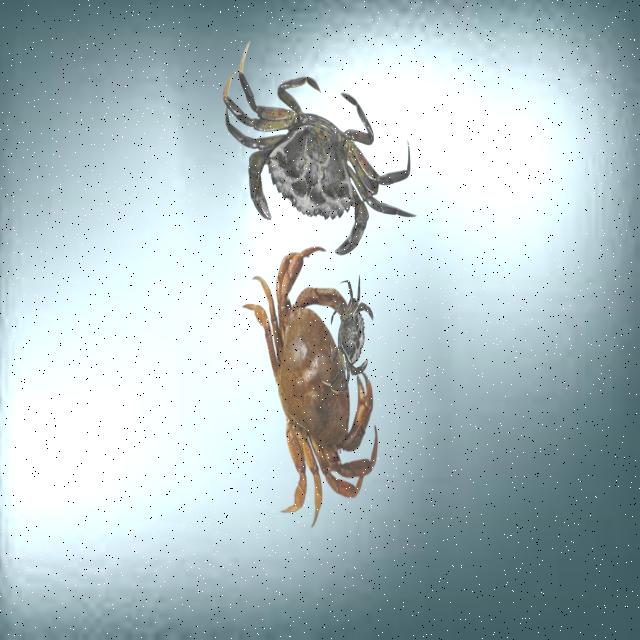European_Green_Crab: (200, 33, 435, 293), (320, 267, 381, 403)
